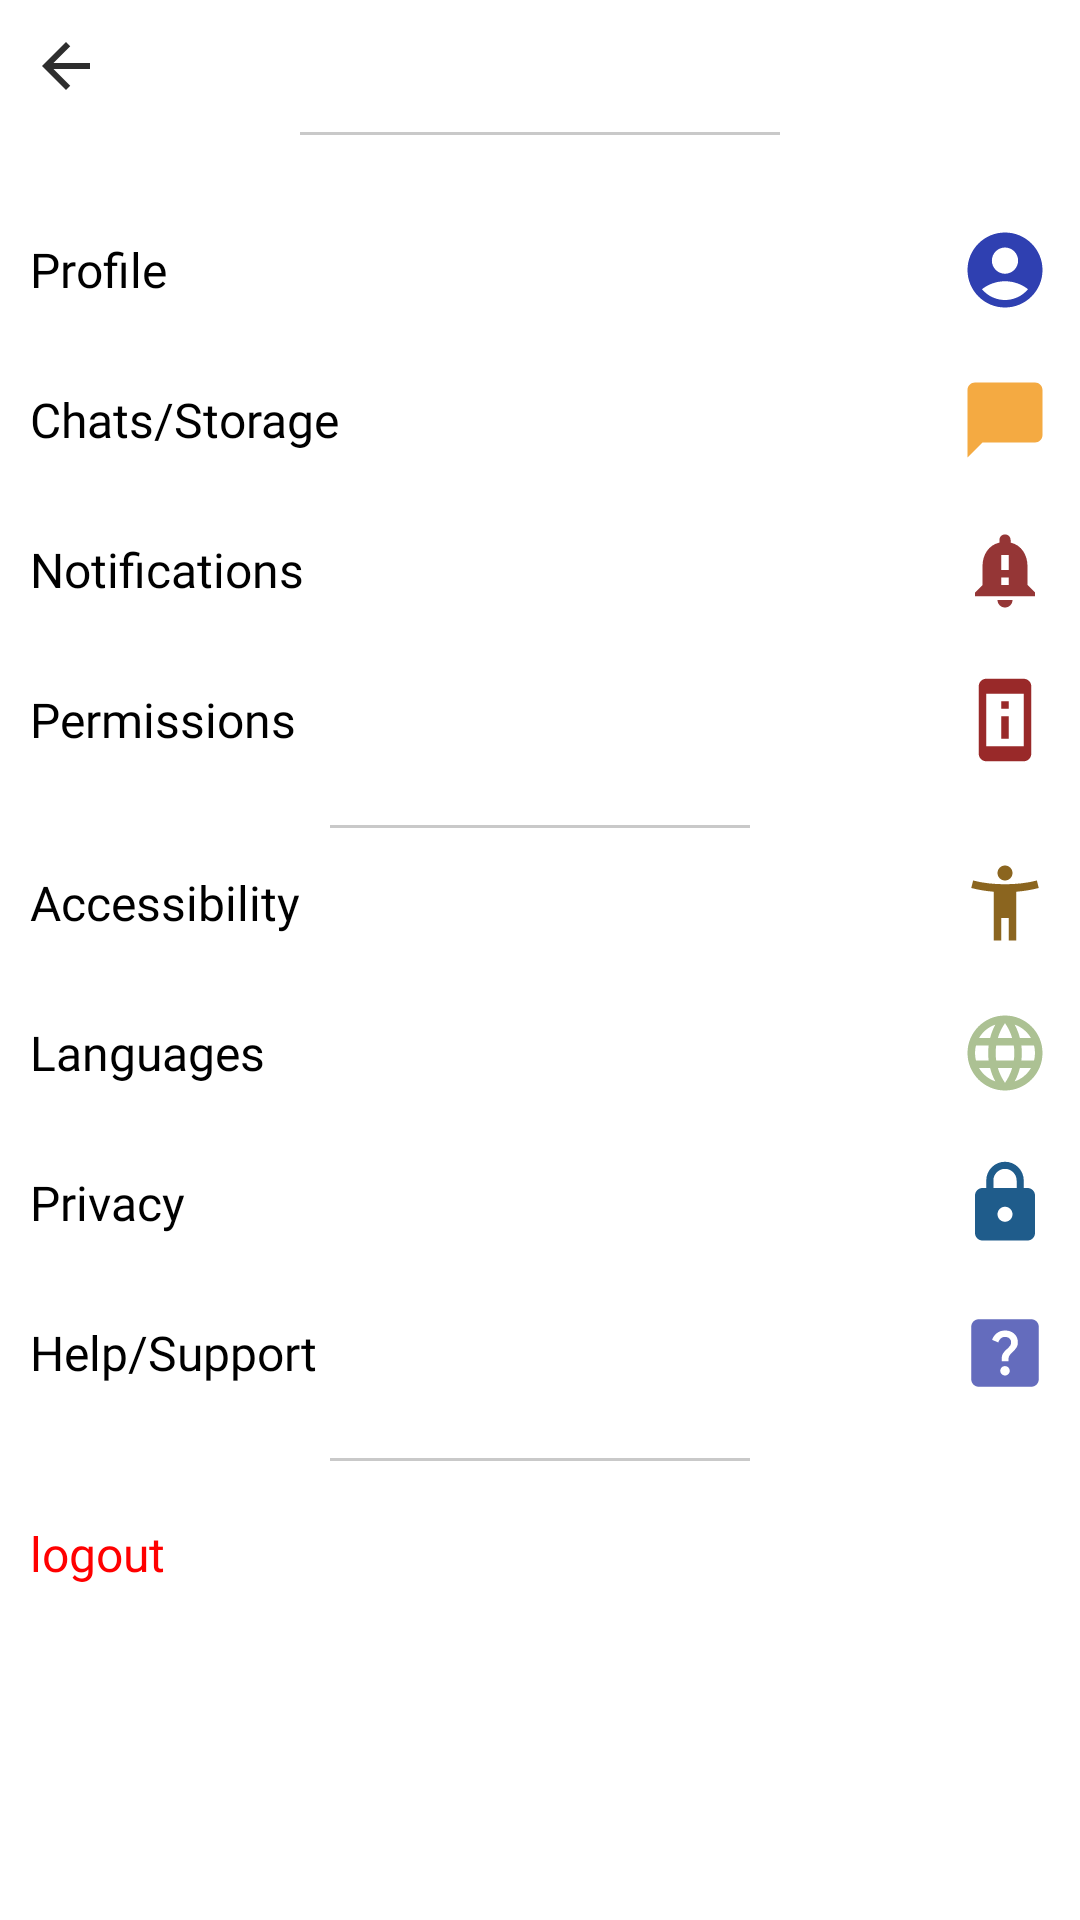

Icon click points for this 1080×1920 phone screenshot, format [x,y]:
arrow back: [66,66]
